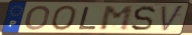L: (76, 6, 98, 30)
M: (98, 5, 134, 32)
O: (23, 4, 52, 31), (50, 4, 78, 31)
S: (130, 5, 157, 32)
V: (160, 5, 186, 34)
